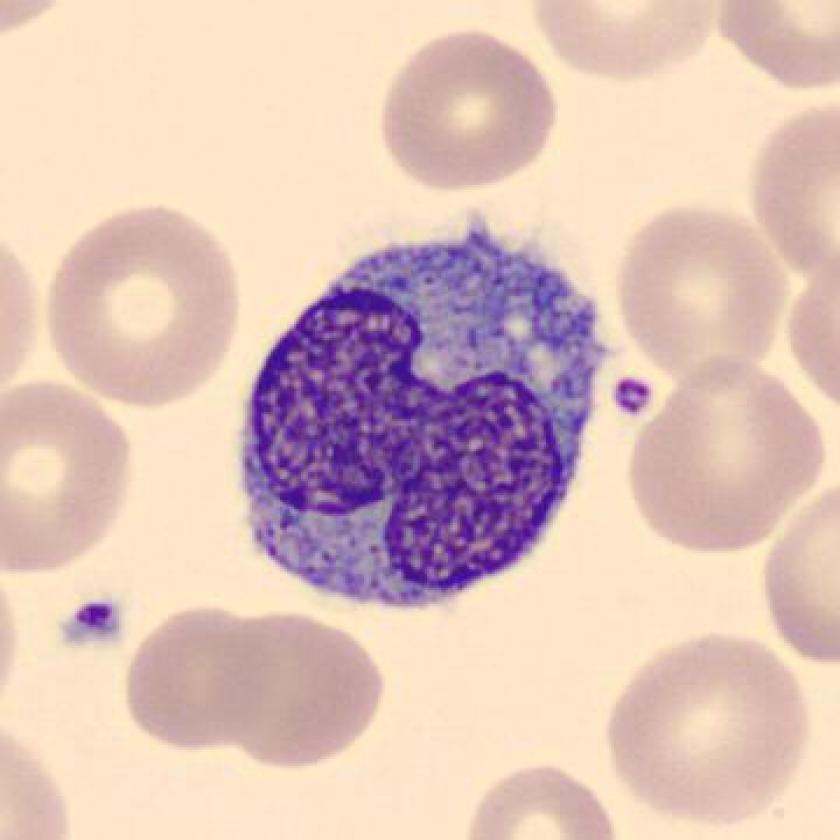monocyte: (220, 207, 622, 649)
